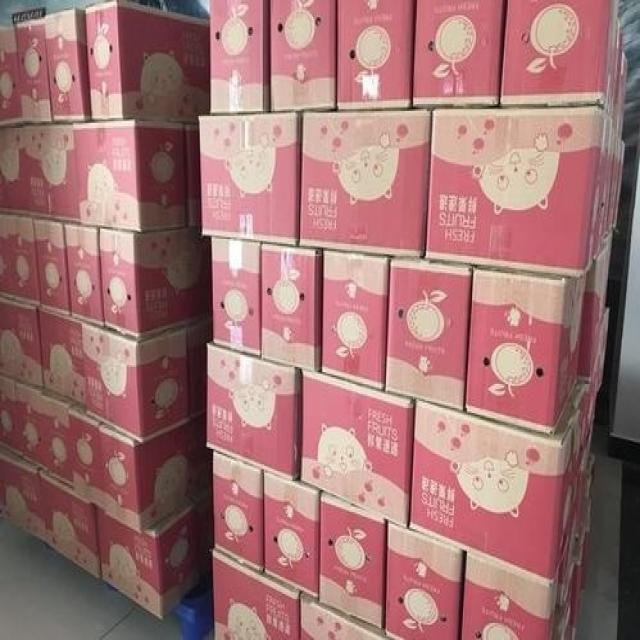box: (426, 104, 611, 276), (409, 399, 581, 580), (463, 265, 589, 435), (299, 111, 431, 259), (301, 369, 413, 529), (72, 404, 196, 534), (86, 0, 210, 125), (206, 338, 303, 480), (385, 258, 475, 411), (199, 113, 301, 246), (500, 0, 622, 111), (100, 495, 203, 618), (99, 225, 213, 336), (85, 324, 191, 442), (74, 118, 186, 229), (410, 0, 508, 106), (321, 251, 391, 393), (318, 492, 387, 633), (385, 521, 464, 640), (337, 0, 419, 111), (462, 553, 562, 640), (260, 242, 324, 374), (213, 550, 303, 640), (262, 469, 321, 597), (269, 0, 335, 113), (38, 468, 103, 580), (209, 0, 269, 116), (213, 449, 263, 572), (212, 237, 262, 358), (24, 121, 80, 227), (42, 9, 91, 123), (299, 592, 403, 640), (40, 309, 86, 416), (65, 222, 105, 328), (33, 218, 73, 319), (0, 299, 42, 389), (15, 17, 50, 125), (0, 447, 40, 541), (8, 215, 41, 309), (44, 393, 76, 488), (0, 126, 28, 215), (17, 382, 44, 471), (0, 22, 19, 126), (0, 372, 21, 456), (186, 123, 200, 225), (0, 213, 13, 300)
